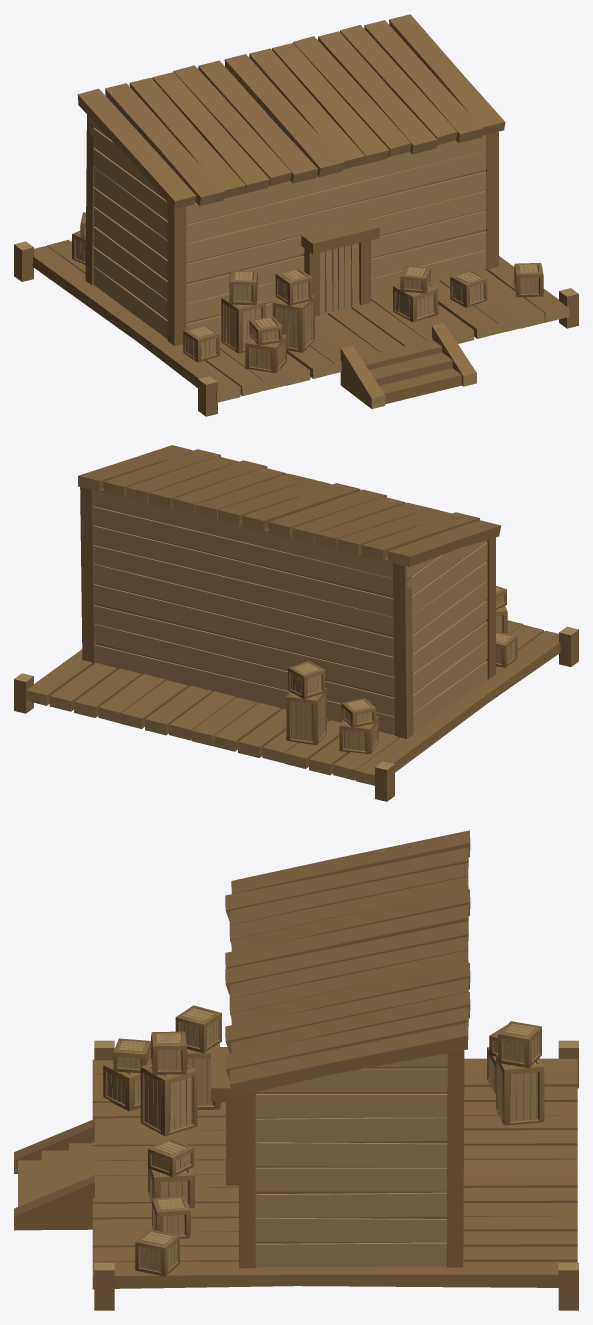
The model's file is Storage Shed.glb.
3 views of the same model, one above another, from view 1: azimuth 30°, elevation 25°; view 2: azimuth 150°, elevation 25°; view 3: azimuth 270°, elevation 25° (orthographic). The views are drawn at different scales.
Visible parts, largest first — view 1: Storage Shed; view 2: Storage Shed; view 3: Storage Shed.
Boxes of the visible parts, box(x1,y1,x2,y2) form: Storage Shed: box(14, 14, 578, 416); Storage Shed: box(14, 445, 578, 801); Storage Shed: box(14, 830, 578, 1310).
Bounding box in the file's own units: 1.41 × 0.7613 × 1.47.
